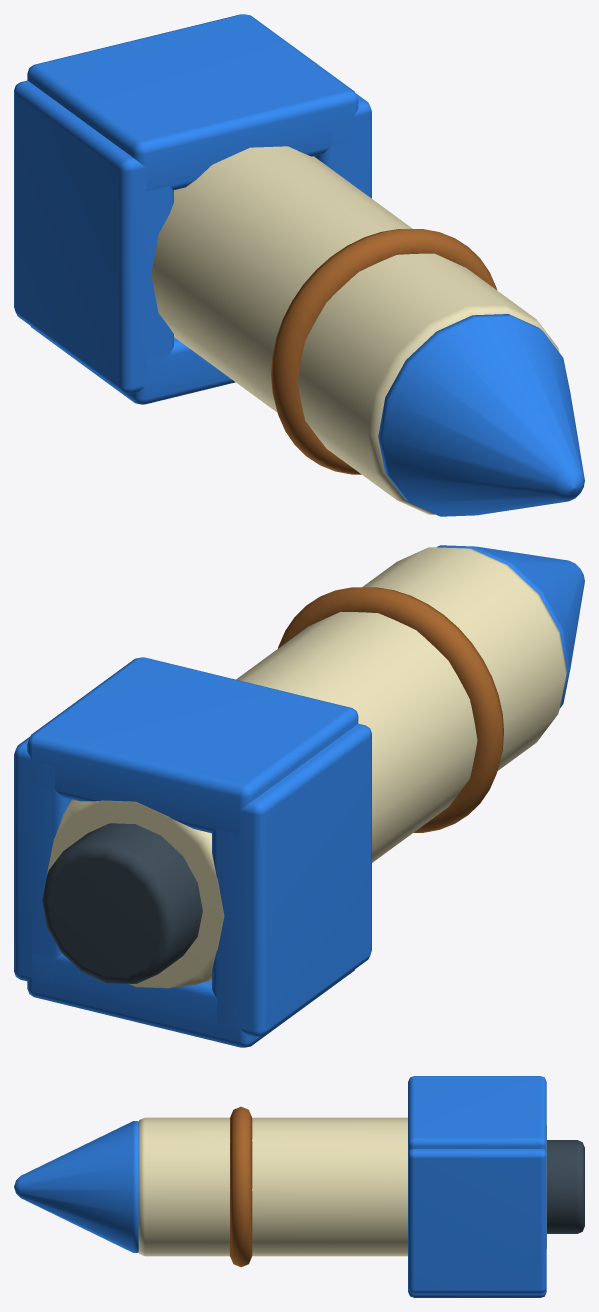
Rendered from MultiMissile_Normal.fbx.
3 views of the same model, one above another, from view 1: azimuth 30°, elevation 25°; view 2: azimuth 150°, elevation 25°; view 3: azimuth 270°, elevation 25° (orthographic). The views are drawn at different scales.
Parts seen in each view (by area): view 1: Rocket body.002, Tail stabilizer.010, Tail stabilizer.009, Seeker nose.002, Identification band.002, Tail stabilizer.011, Tail stabilizer.008; view 2: Rocket body.002, Tail stabilizer.010, Tail stabilizer.009, Engine nozzle.002, Identification band.002, Tail stabilizer.008, Tail stabilizer.011, Seeker nose.002; view 3: Rocket body.002, Tail stabilizer.008, Tail stabilizer.009, Seeker nose.002, Identification band.002, Engine nozzle.002, Tail stabilizer.011.
Part boxes in pixels (x1,y1,x2,y2): Rocket body.002: (151, 146, 559, 514); Tail stabilizer.010: (14, 80, 173, 393); Tail stabilizer.009: (27, 14, 358, 191); Seeker nose.002: (378, 314, 584, 516); Identification band.002: (271, 229, 496, 474); Tail stabilizer.011: (30, 326, 235, 404); Tail stabilizer.008: (314, 93, 371, 198); Rocket body.002: (47, 547, 566, 988); Tail stabilizer.010: (212, 723, 371, 1036); Tail stabilizer.009: (27, 657, 358, 834); Engine nozzle.002: (42, 823, 202, 983); Identification band.002: (278, 587, 503, 832); Tail stabilizer.008: (14, 737, 71, 982); Tail stabilizer.011: (27, 953, 354, 1047); Seeker nose.002: (436, 545, 584, 707); Rocket body.002: (138, 1117, 546, 1256); Tail stabilizer.008: (408, 1149, 546, 1293); Tail stabilizer.009: (408, 1076, 546, 1151); Seeker nose.002: (14, 1121, 138, 1252); Identification band.002: (230, 1106, 252, 1267); Engine nozzle.002: (547, 1140, 584, 1233); Tail stabilizer.011: (408, 1288, 546, 1297).
Size of the model in its own units: 56 by 56 by 181.
